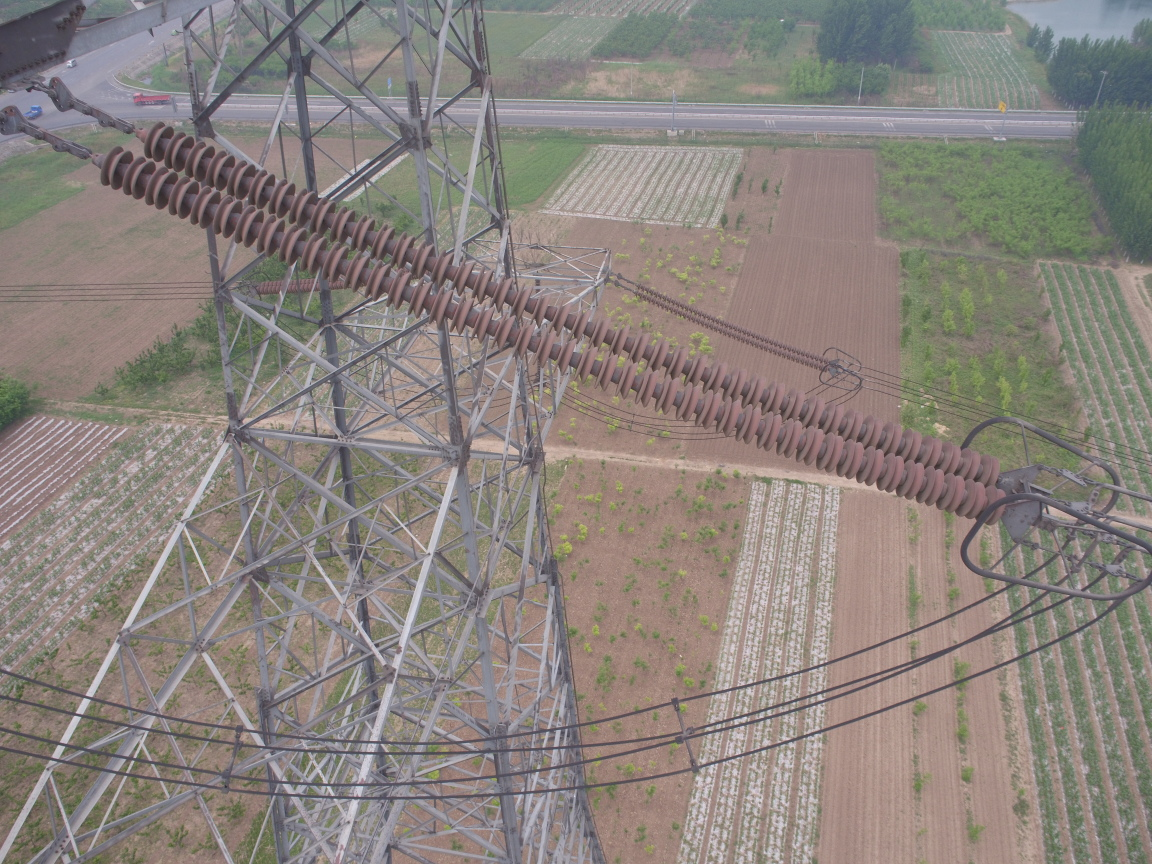insulator: (76, 115, 1023, 533), (624, 281, 836, 375)
